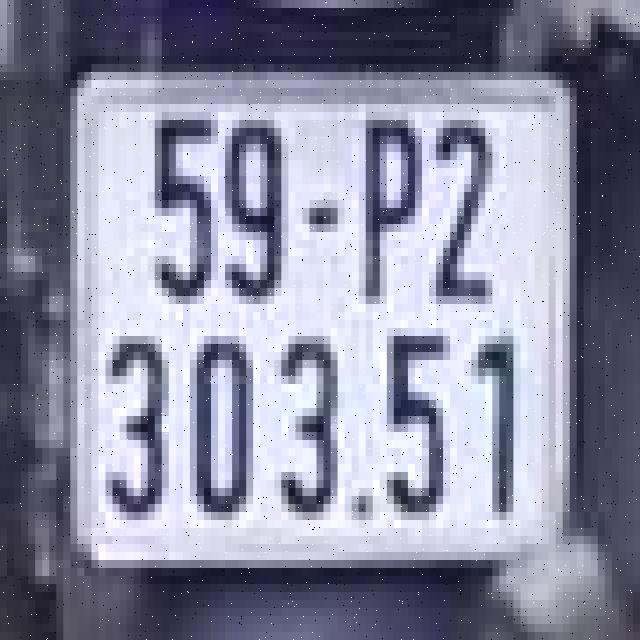0: (186, 328, 257, 520)
1: (461, 320, 531, 520)
2: (425, 108, 503, 308)
3: (278, 320, 348, 528), (102, 324, 172, 524)
5: (376, 320, 454, 528), (148, 100, 225, 300)
9: (225, 104, 302, 304)
P: (345, 112, 422, 312)
